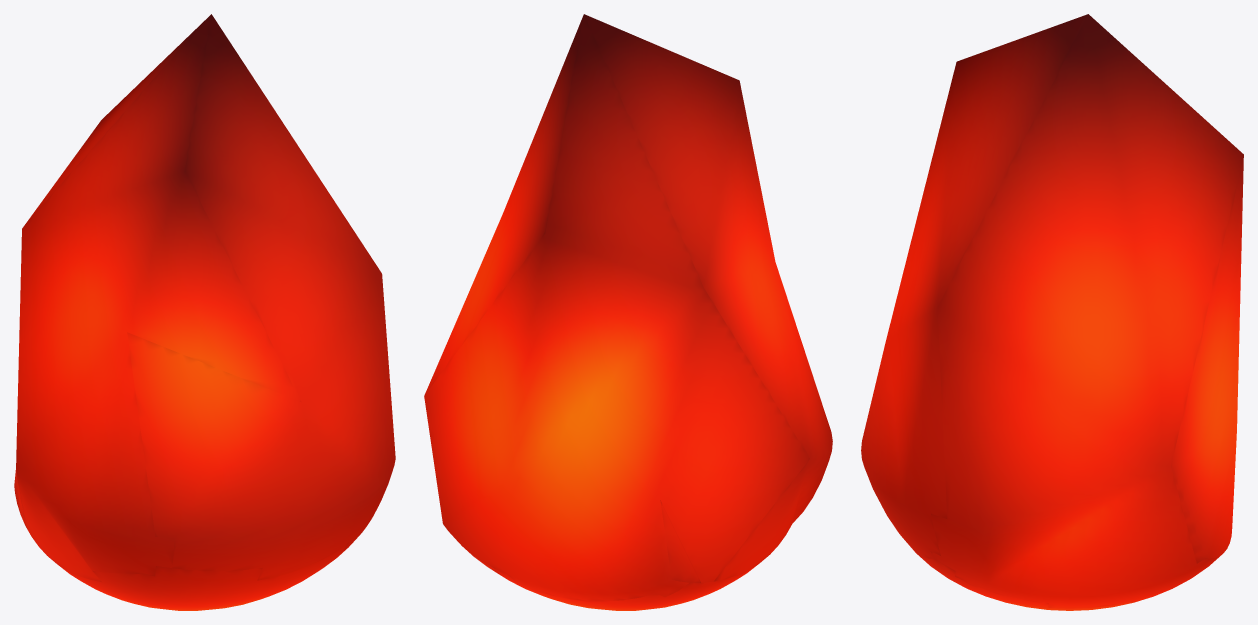
File: fireFrame6.fbx
3 views of the same model, side by side, from view 1: azimuth 30°, elevation 25°; view 2: azimuth 150°, elevation 25°; view 3: azimuth 270°, elevation 25° (orthographic). The views are drawn at different scales.
Visible parts, largest first — view 1: fireFrame6_Baked; view 2: fireFrame6_Baked; view 3: fireFrame6_Baked.
Part boxes in pixels (x1,y1,x2,y2): fireFrame6_Baked: (14,14,395,610); fireFrame6_Baked: (424,14,832,610); fireFrame6_Baked: (861,14,1243,610).
Size of the model in its own units: 147 by 232 by 137.
